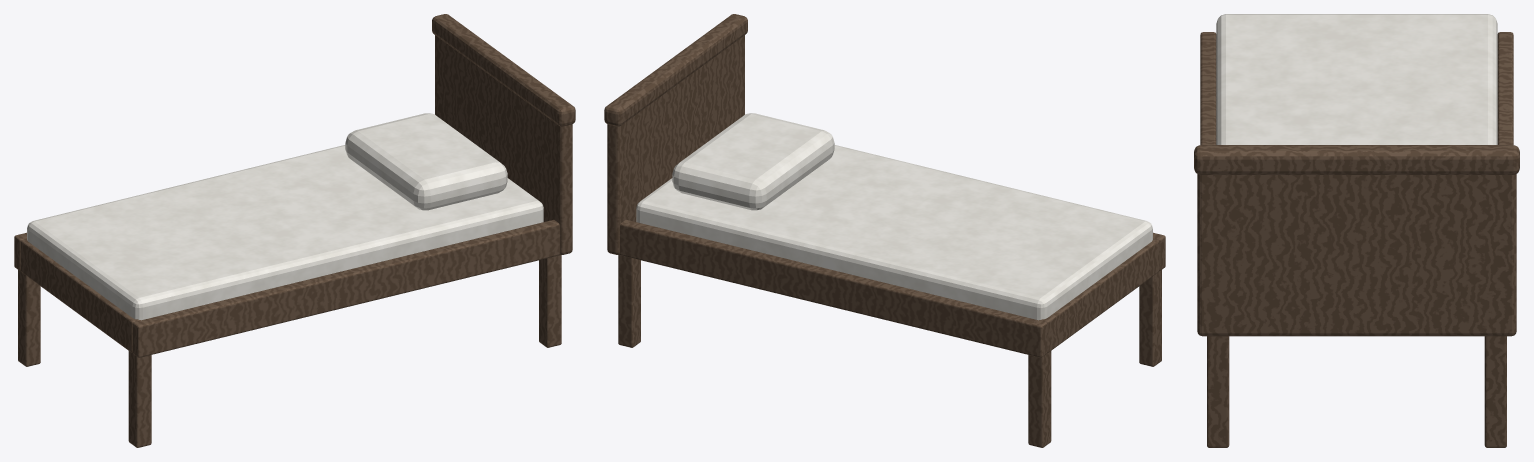
File: FUR_Bed.fbx
3 views of the same model, side by side, from view 1: azimuth 30°, elevation 25°; view 2: azimuth 150°, elevation 25°; view 3: azimuth 270°, elevation 25° (orthographic). The views are drawn at different scales.
Parts seen in each view (by area): view 1: Bed_Mattress, Bed_Frame, Bed_Pillow; view 2: Bed_Mattress, Bed_Frame, Bed_Pillow; view 3: Bed_Frame, Bed_Mattress.
Part boxes in pixels (x1,y1,x2,y2): Bed_Mattress: [27, 145, 543, 320]; Bed_Frame: [14, 14, 575, 447]; Bed_Pillow: [345, 113, 507, 210]; Bed_Mattress: [636, 145, 1152, 320]; Bed_Frame: [604, 14, 1165, 447]; Bed_Pillow: [672, 113, 834, 210]; Bed_Frame: [1194, 32, 1519, 447]; Bed_Mattress: [1216, 14, 1497, 144].
Bounding box in the file's own units: 198 × 104 × 102.
